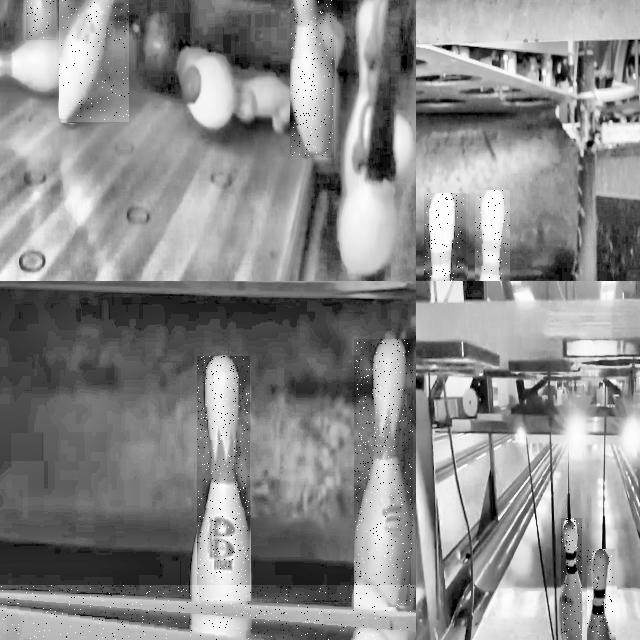bowling-pins: (354, 339, 413, 612), (198, 356, 249, 605), (59, 0, 113, 120), (294, 0, 334, 156), (562, 519, 582, 640), (588, 549, 613, 640), (432, 194, 457, 281), (483, 191, 505, 281), (26, 0, 54, 40)
